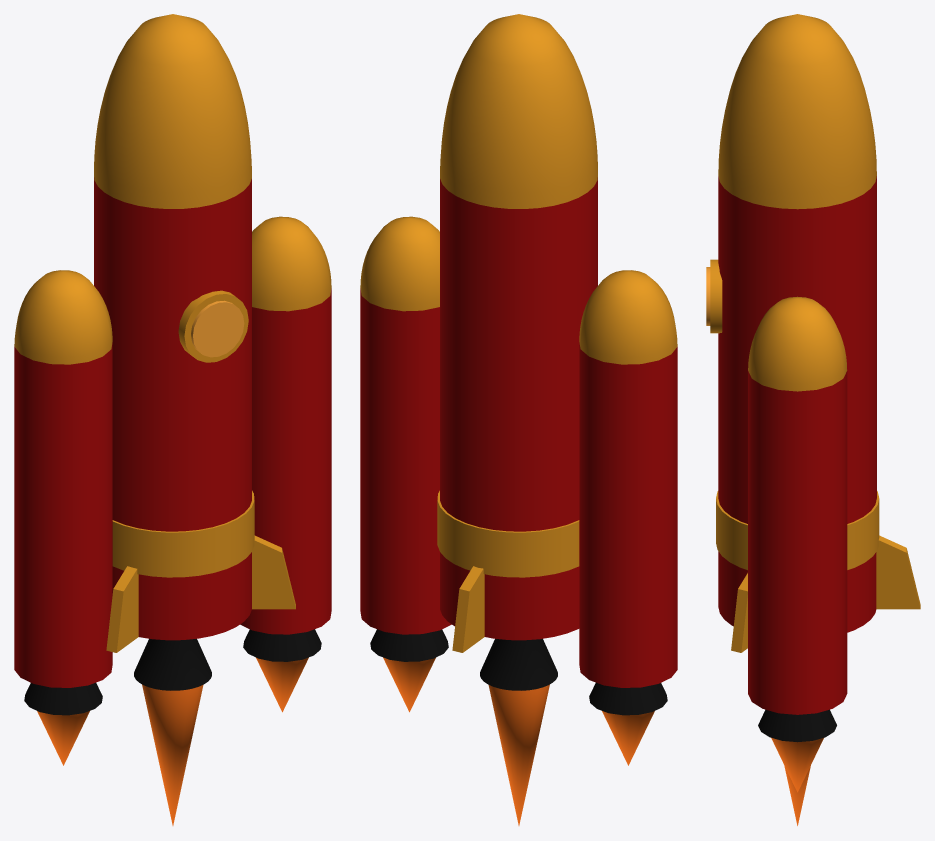
File: Rocket_27_CrimsonTrio.obj
3 views of the same model, side by side, from view 1: azimuth 30°, elevation 25°; view 2: azimuth 150°, elevation 25°; view 3: azimuth 270°, elevation 25° (orthographic).
Visible parts, largest first — view 1: R27_Body, R27_Booster_2, R27_Nose, R27_Booster_1, R27_BoosterNose_2, R27_Band_1, R27_BoosterNose_1, R27_Flame_1, R27_Nozzle_1, R27_Fin_3, R27_Window_1, R27_Fin_2 (+5 smaller); view 2: R27_Body, R27_Booster_2, R27_Booster_1, R27_Nose, R27_BoosterNose_2, R27_Band_1, R27_BoosterNose_1, R27_Flame_1, R27_Nozzle_1, R27_Fin_1, R27_BoosterNozzle_1, R27_BoosterNozzle_2 (+2 smaller); view 3: R27_Body, R27_Booster_1, R27_Nose, R27_BoosterNose_1, R27_Band_1, R27_Fin_1, R27_BoosterNozzle_1, R27_BoosterFlame_1, R27_Fin_3, R27_WindowFrame_1, R27_Flame_1.
Part boxes in pixels (x1,y1,x2,y2): R27_Body: [94, 177, 251, 640]; R27_Booster_2: [14, 342, 112, 687]; R27_Nose: [94, 14, 251, 208]; R27_Booster_1: [240, 288, 331, 634]; R27_BoosterNose_2: [14, 270, 112, 364]; R27_Band_1: [112, 490, 254, 577]; R27_BoosterNose_1: [252, 216, 331, 311]; R27_Flame_1: [142, 684, 203, 825]; R27_Nozzle_1: [134, 638, 211, 690]; R27_Fin_3: [252, 535, 295, 609]; R27_Window_1: [191, 300, 244, 357]; R27_Fin_2: [106, 566, 138, 652]; R27_Body: [440, 177, 597, 640]; R27_Booster_2: [579, 342, 677, 687]; R27_Booster_1: [360, 288, 451, 634]; R27_Nose: [440, 14, 597, 208]; R27_BoosterNose_2: [579, 270, 677, 364]; R27_Band_1: [437, 490, 579, 577]; R27_BoosterNose_1: [360, 216, 439, 311]; R27_Flame_1: [488, 684, 549, 825]; R27_Nozzle_1: [480, 638, 557, 690]; R27_Fin_1: [452, 566, 484, 652]; R27_BoosterNozzle_1: [370, 629, 448, 661]; R27_BoosterNozzle_2: [589, 682, 667, 715]; R27_Body: [718, 176, 876, 632]; R27_Booster_1: [748, 371, 847, 714]; R27_Nose: [718, 14, 876, 209]; R27_BoosterNose_1: [748, 296, 847, 391]; R27_Band_1: [716, 491, 879, 570]; R27_Fin_1: [876, 535, 920, 609]; R27_BoosterNozzle_1: [758, 709, 836, 742]; R27_BoosterFlame_1: [771, 737, 823, 792]; R27_Fin_3: [731, 573, 747, 652]; R27_WindowFrame_1: [710, 259, 722, 333]; R27_Flame_1: [784, 765, 810, 825].
Bounding box in the file's own units: 3.55 × 9.05 × 2.16.
